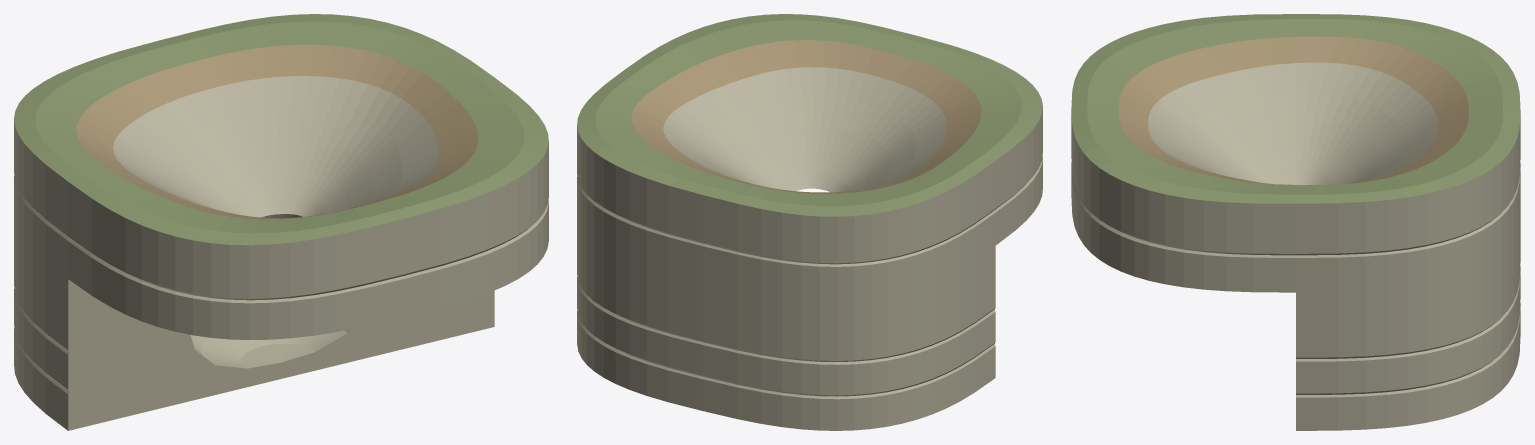
The model's file is karst-sinkhole.glb.
3 renders of one model, left to right at view 1: azimuth 30°, elevation 25°; view 2: azimuth 150°, elevation 25°; view 3: azimuth 270°, elevation 25°, orthographic. The views are drawn at different scales.
Parts seen in each view (by area): view 1: single-solid-enclosed-funnel-throat-and-cavity-cutaway; view 2: single-solid-enclosed-funnel-throat-and-cavity-cutaway; view 3: single-solid-enclosed-funnel-throat-and-cavity-cutaway.
Part boxes in pixels (x1=…): single-solid-enclosed-funnel-throat-and-cavity-cutaway: x1=14, y1=14, x2=548, y2=430; single-solid-enclosed-funnel-throat-and-cavity-cutaway: x1=577, y1=14, x2=1042, y2=430; single-solid-enclosed-funnel-throat-and-cavity-cutaway: x1=1071, y1=14, x2=1520, y2=430.
Size of the model in its own units: 6 by 3.43 by 6.
